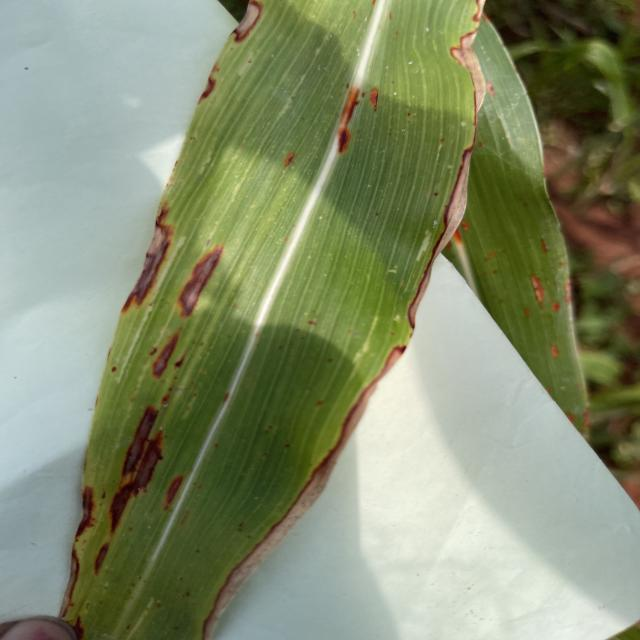millet_rust: (64, 0, 499, 640)
